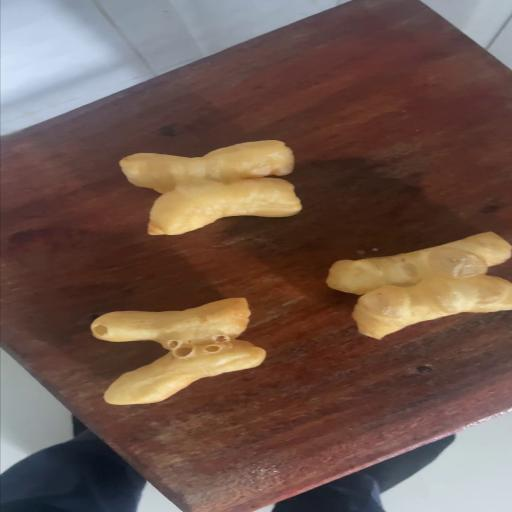street_golden_defect: (326, 232, 512, 339), (90, 298, 266, 405)
street_golden_good: (119, 140, 302, 235)
